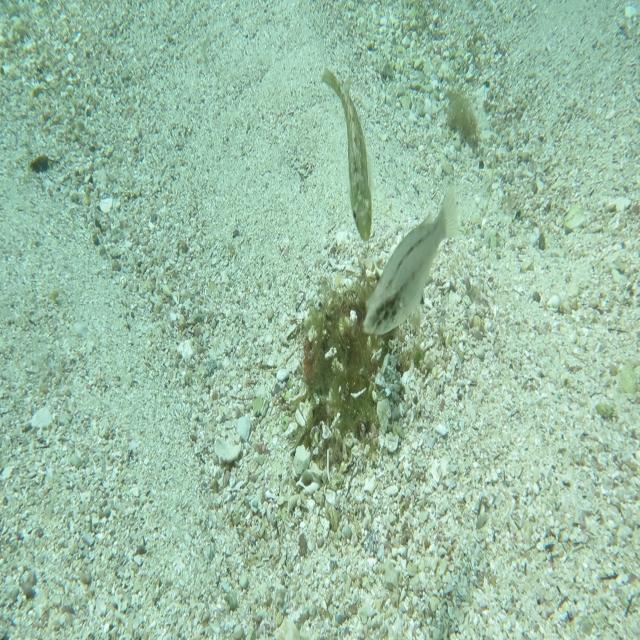CHASE_FLEE: (320, 64, 378, 244)
female: (362, 176, 461, 336)
nest: (274, 241, 419, 478)
